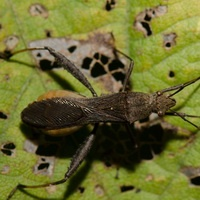insect: (18, 47, 199, 131), (7, 131, 94, 199), (134, 5, 167, 36)
